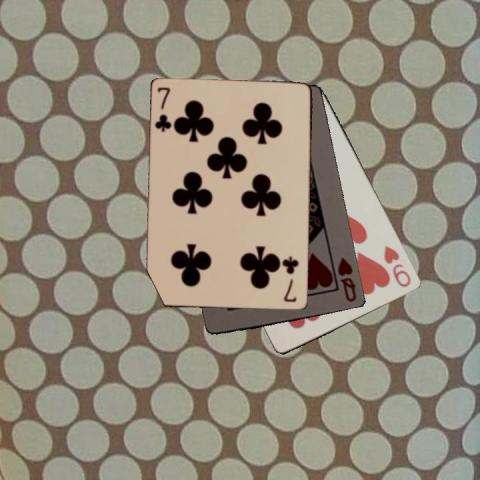7c: (153, 84, 173, 133), (281, 253, 300, 304)
9h: (381, 242, 413, 289)
Qh: (335, 254, 358, 304)
